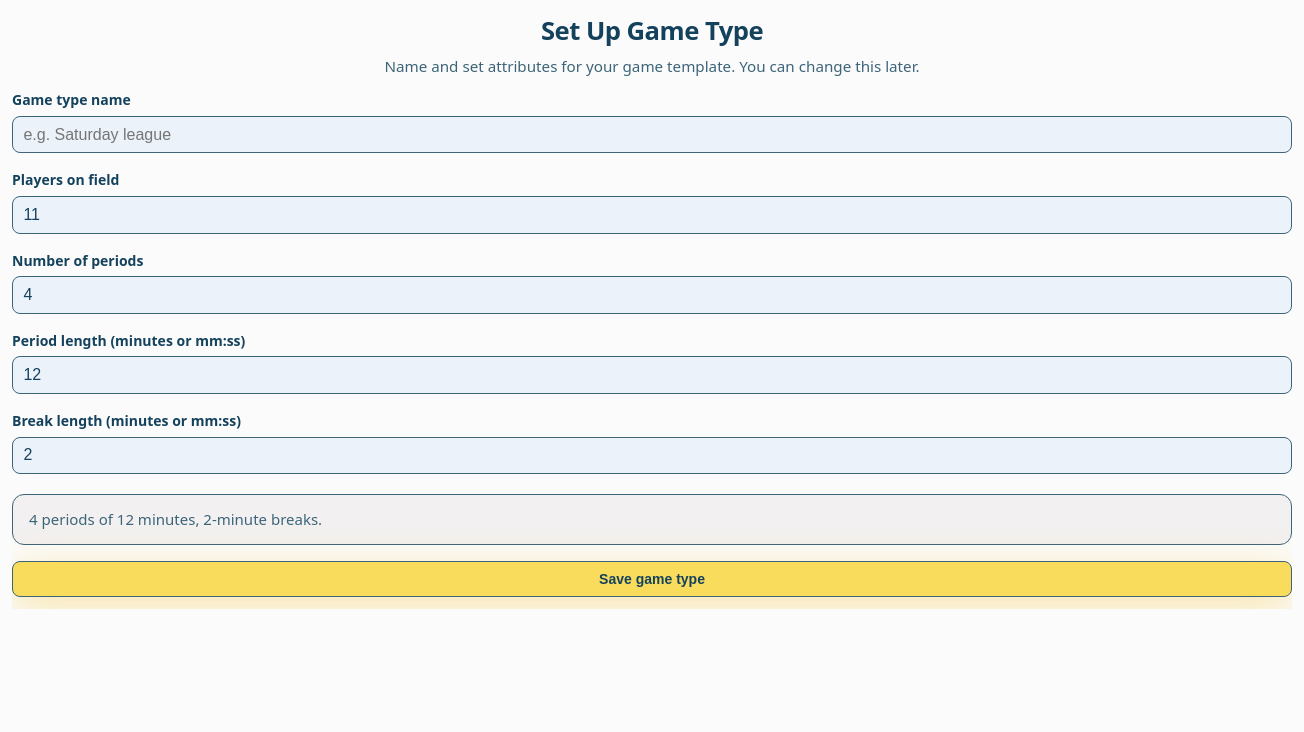
Scenario: TimerConfigForm › updates summary when values change
Replace the text in the number field labelled "Number of periods" with "2". click: {"x": 652, "y": 295}
box: [12, 276, 1292, 314]
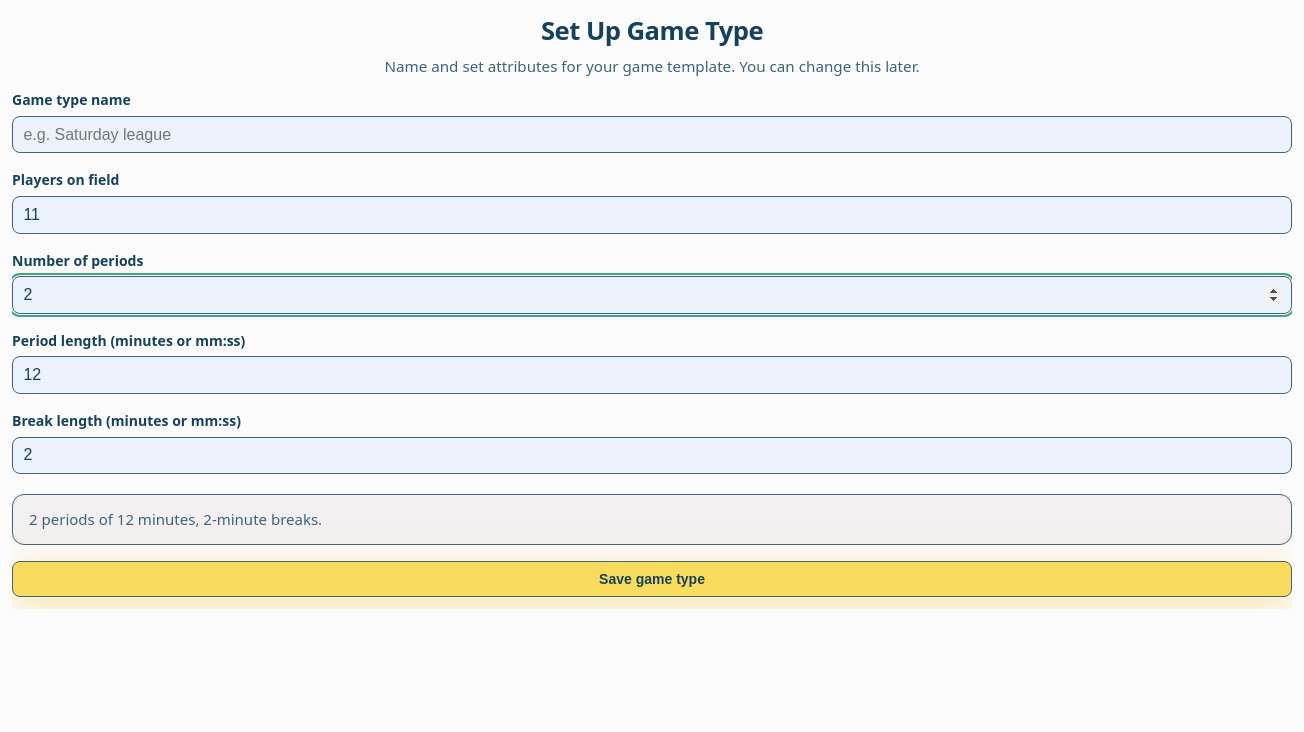
Check: the text with test id "timer-summary" shows "2 periods", box [12, 494, 1292, 545]
